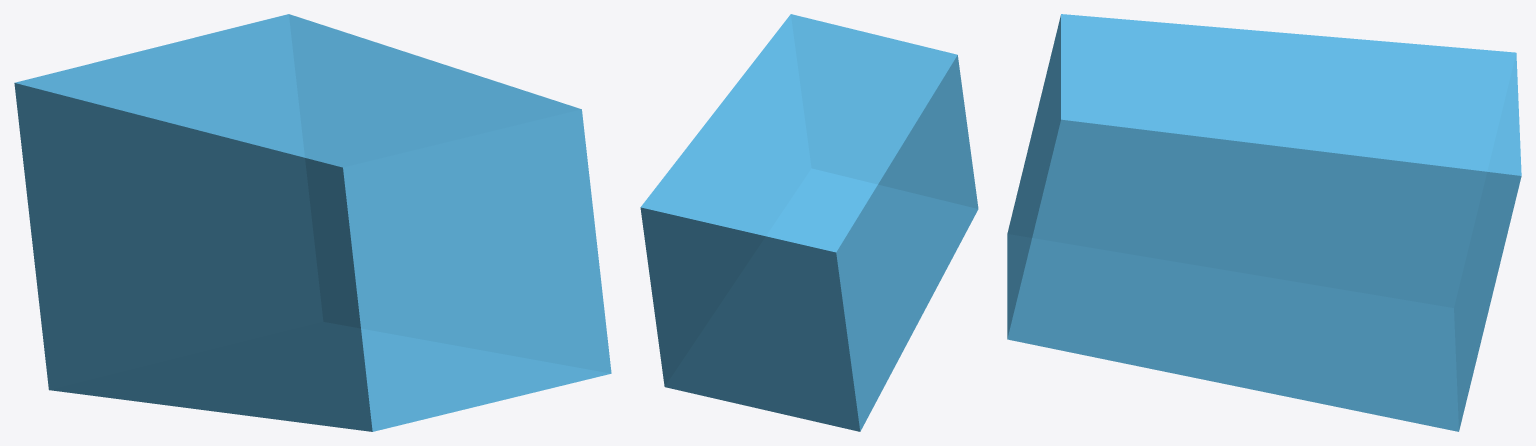
File: Event_421278790_HBrechit_4.fbx
The picture shows the model from 3 angles, left to right: view 1: azimuth 30°, elevation 25°; view 2: azimuth 150°, elevation 25°; view 3: azimuth 270°, elevation 25°; orthographic projection. The views are drawn at different scales.
Visible parts, largest first — view 1: Model; view 2: Model; view 3: Model.
Part boxes in pixels (x1,y1,x2,y2): Model: [14, 14, 611, 431]; Model: [640, 14, 978, 431]; Model: [1007, 14, 1521, 431].
Size of the model in its own units: 0.5348 by 0.5878 by 0.8313.
